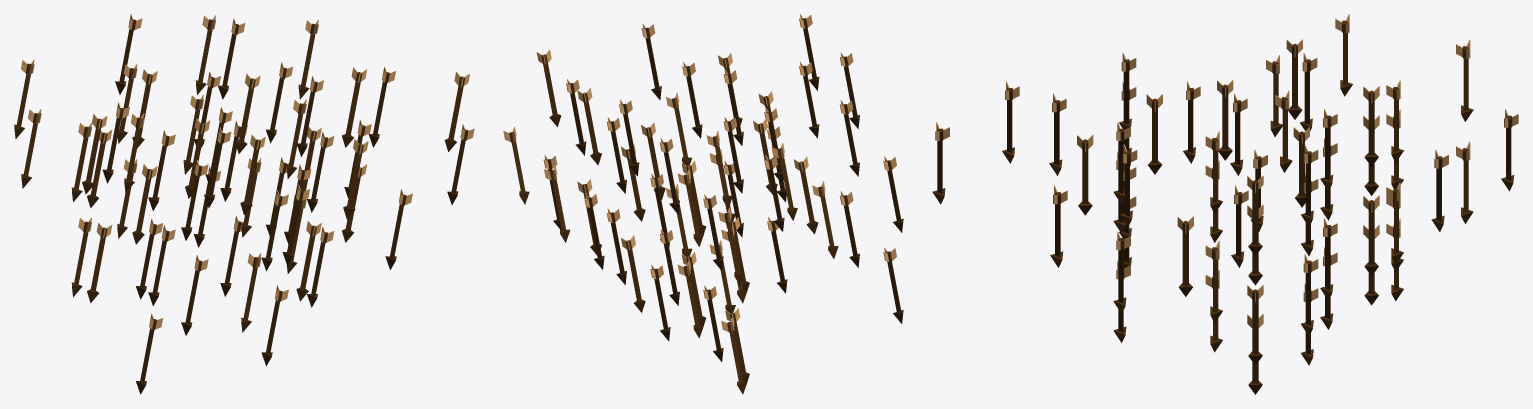
Rendered from arrows.fbx.
3 renders of one model, left to right at view 1: azimuth 30°, elevation 25°; view 2: azimuth 150°, elevation 25°; view 3: azimuth 270°, elevation 25°, orthographic. The views are drawn at different scales.
Parts seen in each view (by area): view 1: Circle.028; view 2: Circle.028; view 3: Circle.028.
Boxes of the visible parts, x1,y1,x2,y2 form: Circle.028: (14,14,474,394); Circle.028: (503,14,903,394); Circle.028: (932,14,1518,394).
Size of the model in its own units: 8.41 by 4.61 by 9.72.
